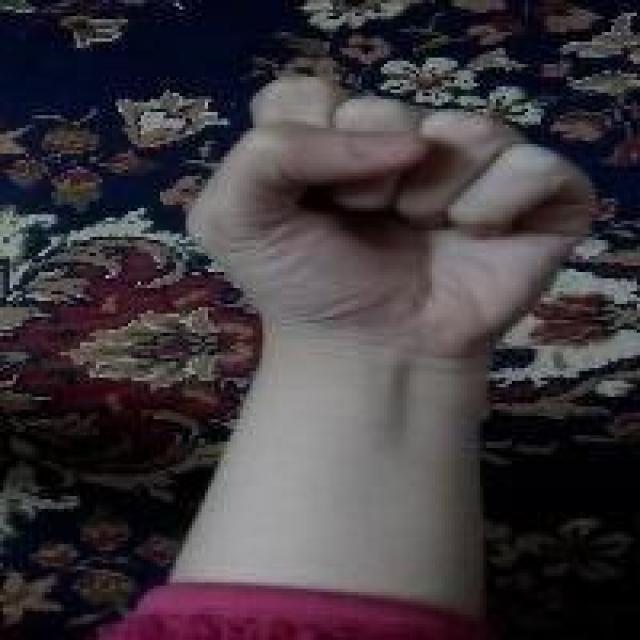S: (176, 69, 605, 347)
